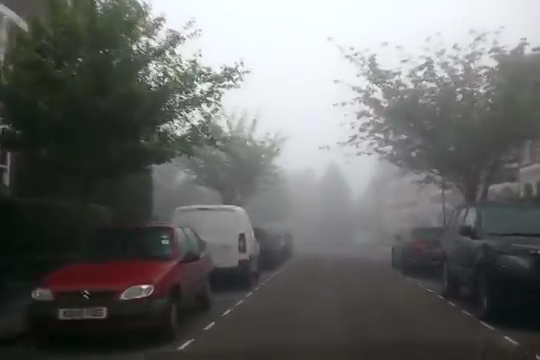car: (23, 219, 216, 344), (438, 199, 540, 322), (167, 204, 263, 291), (388, 224, 463, 279), (230, 226, 276, 273), (256, 223, 294, 263)
